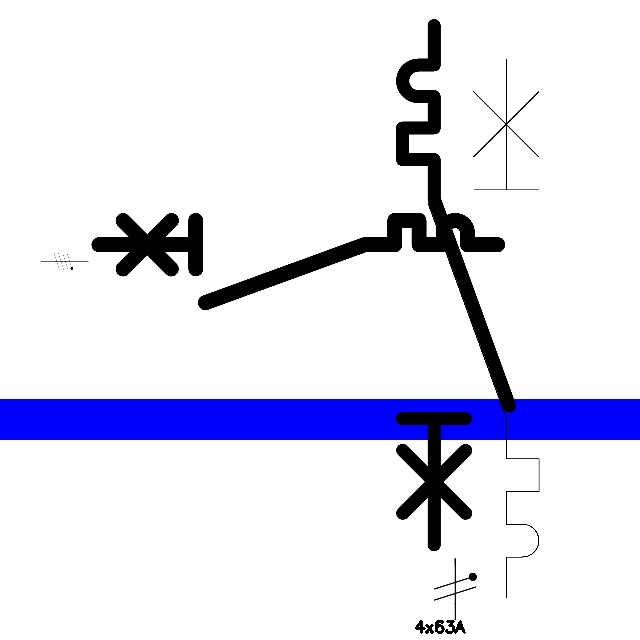interruptor_termomagnetico: (414, 45, 553, 612), (389, 12, 522, 558), (88, 210, 507, 312)
